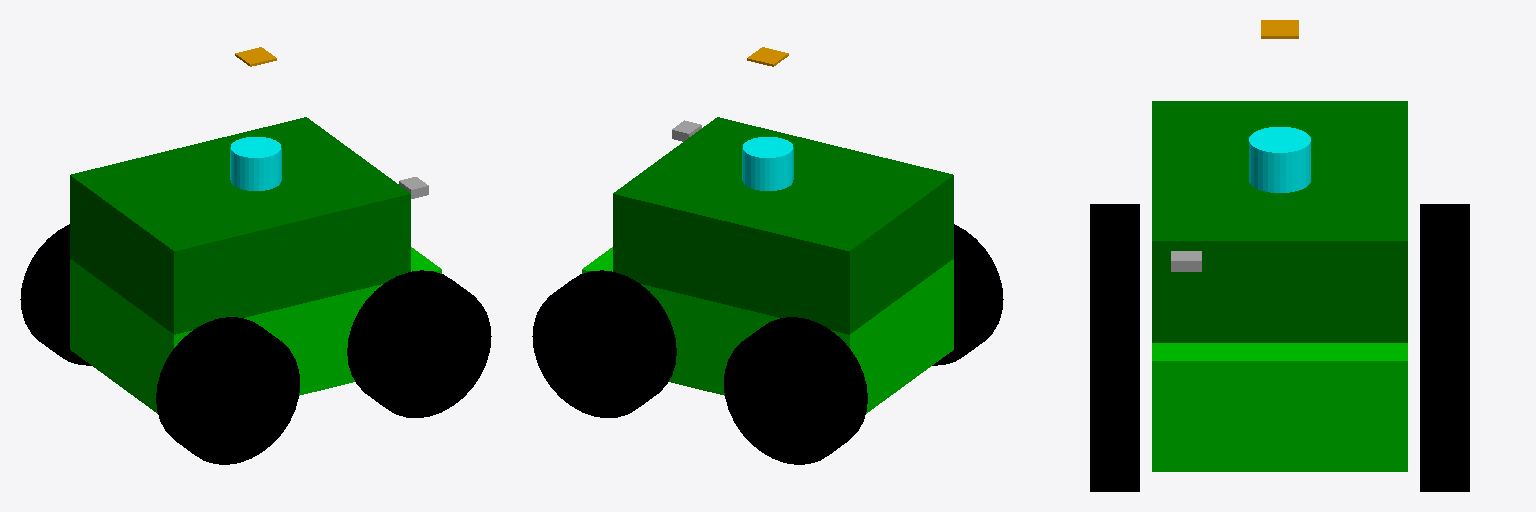
URDF robot description (smb):
<?xml version="1.0" encoding="utf-8"?>
<!-- =================================================================================== -->
<!-- |    This document was autogenerated by xacro from [local-path]/catkin_ws/src/smb_common/smb_description/urdf/smb_standalone.urdf.xacro | -->
<!-- |    EDITING THIS FILE BY HAND IS NOT RECOMMENDED                                 | -->
<!-- =================================================================================== -->
<robot name="smb">
  <!-- Materials -->
  <material name="black">
    <color rgba="0 0 0 1"/>
  </material>
  <material name="dark_grey">
    <color rgba="0 0 0 0.6 1"/>
  </material>
  <material name="blue">
    <color rgba="0 0 0.8 1"/>
  </material>
  <material name="green">
    <color rgba="0 0.8 0 1"/>
  </material>
  <material name="grey">
    <color rgba="0.2 0.2 0.2 1"/>
  </material>
  <material name="orange">
    <color rgba="1 0.4 10 1"/>
  </material>
  <material name="brown">
    <color rgba="0.8 0.8 0.8 1"/>
  </material>
  <material name="red">
    <color rgba="0.8 0 0 1"/>
  </material>
  <material name="white">
    <color rgba="1 1 1 1"/>
  </material>
  <link name="base">
    <collision>
      <origin rpy="0 0 0" xyz="0 0 0"/>
      <geometry>
        <box size="0.605 0.41 0.197"/>
      </geometry>
    </collision>
    <visual>
      <origin rpy="0 0 0" xyz="0 0 0"/>
      <geometry>
        <box size="0.605 0.41 0.197"/>
      </geometry>
      <material name="green"/>
    </visual>
  </link>
  <link name="top">
    <collision>
      <origin rpy="0 0 0" xyz="-0.07 0 0"/>
      <geometry>
        <box size="0.535 0.41 0.18"/>
      </geometry>
    </collision>
    <visual>
      <origin rpy="0 0 0" xyz="0 0 0"/>
      <geometry>
        <box size="0.535 0.41 0.18"/>
      </geometry>
      <material name="green2">
        <color rgba="0 0.5 0 0.8"/>
      </material>
    </visual>
  </link>
  <gazebo reference="top">
    <material>Gazebo/Green</material>
  </gazebo>
  <gazebo reference="base">
    <material>Gazebo/Green</material>
  </gazebo>
  <joint name="top_to_base_link" type="fixed">
    <parent link="base"/>
    <child link="top"/>
    <origin rpy="0 0 0" xyz="-0.035 0.0 0.1885"/>
  </joint>
  <!-- Fixed joint to add dummy inertia link -->
  <joint name="base_to_base_inertia" type="fixed">
    <parent link="base"/>
    <child link="base_inertia"/>
    <origin rpy="0 0 0" xyz="0 0 0"/>
  </joint>
  <!-- Dummy inertia link, because KDL cannot have inertia on the base link -->
  <link name="base_inertia">
    <inertial>
      <origin rpy="0 0 0" xyz="0 0 0"/>
      <mass value="40"/>
      <inertia ixx="0.689696666667" ixy="0" ixz="0" iyy="1.34944666667" iyz="0" izz="1.34944666667"/>
    </inertial>
  </link>
  <joint name="LF_WHEEL" type="fixed">
    <parent link="base"/>
    <child link="LF_WHEEL"/>
    <origin rpy="-1.57079632679 0 0" xyz="0.2159 0.265 -0.0185"/>
    <axis rpy="0 0 0" xyz="0 0 1"/>
    <dynamics damping="1.0" friction="0.0"/>
    <limit effort="1" velocity="1"/>
    <joint_properties damping="0.2" friction="0.2"/>
  </joint>
  <link name="LF_WHEEL">
    <collision>
      <origin rpy="0 0 0" xyz="0 0 0"/>
      <geometry>
        <cylinder length="0.008" radius="0.14"/>
      </geometry>
    </collision>
    <visual>
      <origin rpy="0 0 0" xyz="0 0 0"/>
      <geometry>
        <cylinder length="0.08" radius="0.14"/>
      </geometry>
      <material name="black"/>
    </visual>
    <inertial>
      <origin rpy="0 0 0" xyz="0 0 0"/>
      <mass value="5"/>
      <inertia ixx="0.0271666666667" ixy="0" ixz="0" iyy="0.0271666666667" iyz="0" izz="0.049"/>
    </inertial>
  </link>
  <gazebo reference="LF_WHEEL">
    <mu1 value="0.5"/>
    <mu2 value="0.5"/>
    <fdir1 value="1 0 0"/>
    <kp>10000000.0</kp>
    <kd>1.0</kd>
    <minDepth>0.005</minDepth>
    <maxVel>100.0</maxVel>
    <material>Gazebo/Black</material>
  </gazebo>
  <joint name="RF_WHEEL" type="fixed">
    <parent link="base"/>
    <child link="RF_WHEEL"/>
    <origin rpy="-1.57079632679 0 0" xyz="0.2159 -0.265 -0.0185"/>
    <axis rpy="0 0 0" xyz="0 0 1"/>
    <dynamics damping="1.0" friction="0.0"/>
    <limit effort="1" velocity="1"/>
    <joint_properties damping="0.2" friction="0.2"/>
  </joint>
  <link name="RF_WHEEL">
    <collision>
      <origin rpy="0 0 0" xyz="0 0 0"/>
      <geometry>
        <cylinder length="0.008" radius="0.14"/>
      </geometry>
    </collision>
    <visual>
      <origin rpy="0 0 0" xyz="0 0 0"/>
      <geometry>
        <cylinder length="0.08" radius="0.14"/>
      </geometry>
      <material name="black"/>
    </visual>
    <inertial>
      <origin rpy="0 0 0" xyz="0 0 0"/>
      <mass value="5"/>
      <inertia ixx="0.0271666666667" ixy="0" ixz="0" iyy="0.0271666666667" iyz="0" izz="0.049"/>
    </inertial>
  </link>
  <gazebo reference="RF_WHEEL">
    <mu1 value="0.5"/>
    <mu2 value="0.5"/>
    <fdir1 value="1 0 0"/>
    <kp>10000000.0</kp>
    <kd>1.0</kd>
    <minDepth>0.005</minDepth>
    <maxVel>100.0</maxVel>
    <material>Gazebo/Black</material>
  </gazebo>
  <joint name="LH_WHEEL" type="fixed">
    <parent link="base"/>
    <child link="LH_WHEEL"/>
    <origin rpy="-1.57079632679 0 0" xyz="-0.2159 0.265 -0.0185"/>
    <axis rpy="0 0 0" xyz="0 0 1"/>
    <dynamics damping="1.0" friction="0.0"/>
    <limit effort="1" velocity="1"/>
    <joint_properties damping="0.2" friction="0.2"/>
  </joint>
  <link name="LH_WHEEL">
    <collision>
      <origin rpy="0 0 0" xyz="0 0 0"/>
      <geometry>
        <cylinder length="0.008" radius="0.14"/>
      </geometry>
    </collision>
    <visual>
      <origin rpy="0 0 0" xyz="0 0 0"/>
      <geometry>
        <cylinder length="0.08" radius="0.14"/>
      </geometry>
      <material name="black"/>
    </visual>
    <inertial>
      <origin rpy="0 0 0" xyz="0 0 0"/>
      <mass value="5"/>
      <inertia ixx="0.0271666666667" ixy="0" ixz="0" iyy="0.0271666666667" iyz="0" izz="0.049"/>
    </inertial>
  </link>
  <gazebo reference="LH_WHEEL">
    <mu1 value="0.0"/>
    <mu2 value="0.0"/>
    <fdir1 value="1 0 0"/>
    <kp>10000000.0</kp>
    <kd>1.0</kd>
    <minDepth>0.005</minDepth>
    <maxVel>100.0</maxVel>
    <material>Gazebo/Black</material>
  </gazebo>
  <joint name="RH_WHEEL" type="fixed">
    <parent link="base"/>
    <child link="RH_WHEEL"/>
    <origin rpy="-1.57079632679 0 0" xyz="-0.2159 -0.265 -0.0185"/>
    <axis rpy="0 0 0" xyz="0 0 1"/>
    <dynamics damping="1.0" friction="0.0"/>
    <limit effort="1" velocity="1"/>
    <joint_properties damping="0.2" friction="0.2"/>
  </joint>
  <link name="RH_WHEEL">
    <collision>
      <origin rpy="0 0 0" xyz="0 0 0"/>
      <geometry>
        <cylinder length="0.008" radius="0.14"/>
      </geometry>
    </collision>
    <visual>
      <origin rpy="0 0 0" xyz="0 0 0"/>
      <geometry>
        <cylinder length="0.08" radius="0.14"/>
      </geometry>
      <material name="black"/>
    </visual>
    <inertial>
      <origin rpy="0 0 0" xyz="0 0 0"/>
      <mass value="5"/>
      <inertia ixx="0.0271666666667" ixy="0" ixz="0" iyy="0.0271666666667" iyz="0" izz="0.049"/>
    </inertial>
  </link>
  <gazebo reference="RH_WHEEL">
    <mu1 value="0.2"/>
    <mu2 value="0.2"/>
    <fdir1 value="1 0 0"/>
    <kp>10000000.0</kp>
    <kd>1.0</kd>
    <minDepth>0.005</minDepth>
    <maxVel>100.0</maxVel>
    <material>Gazebo/Black</material>
  </gazebo>
  <!-- Imu is fixed to the base link -->
  <joint name="imu_joint" type="fixed">
    <origin rpy="0 0 0" xyz="0.27 -0.15 0.26"/>
    <parent link="base"/>
    <child link="imu_link"/>
  </joint>
  <!-- Imu link -->
  <link name="imu_link">
    <inertial>
      <mass value="0.001"/>
      <origin rpy="0 0 0" xyz="0 0 0"/>
      <inertia ixx="0.0001" ixy="0" ixz="0" iyy="0.000001" iyz="0" izz="0.0001"/>
    </inertial>
    <visual>
      <origin rpy="0 0 0" xyz="0 0 0"/>
      <geometry>
        <box size="0.04 0.05 0.02"/>
      </geometry>
    </visual>
    <collision>
      <origin rpy="0 0 0" xyz="0 0 0"/>
      <geometry>
        <box size=".001 .001 .001"/>
      </geometry>
    </collision>
    <material name="orange">
      <color rgba="1 108 10 1"/>
    </material>
  </link>
  <gazebo reference="imu_link">
    <material>Gazebo/Orange</material>
  </gazebo>
  <gazebo reference="imu_joint">
    <disableFixedJointLumping>true</disableFixedJointLumping>
  </gazebo>
  <!-- Gps is fixed to the base link -->
  <joint name="gps_joint" type="fixed">
    <origin rpy="0 0 0" xyz="0 0 0.545"/>
    <parent link="base"/>
    <child link="gps_link"/>
  </joint>
  <!-- Gps link -->
  <link name="gps_link">
    <inertial>
      <mass value="0.001"/>
      <origin rpy="0 0 0" xyz="0 0 0"/>
      <inertia ixx="0.0001" ixy="0" ixz="0" iyy="0.000001" iyz="0" izz="0.0001"/>
    </inertial>
    <visual>
      <origin rpy="0 0 0" xyz="0 0 0"/>
      <geometry>
        <box size="0.06 0.06 0.005"/>
      </geometry>
    </visual>
    <collision>
      <origin rpy="0 0 0" xyz="0 0 0"/>
      <geometry>
        <box size=".001 .001 .001"/>
      </geometry>
    </collision>
    <material name="grey_dark2">
      <color rgba="0.8 0.8 0.8 1.0"/>
    </material>
  </link>
  <gazebo reference="gps_link">
    <material>Gazebo/DarkGrey</material>
  </gazebo>
  <gazebo reference="gps_joint">
    <disableFixedJointLumping>true</disableFixedJointLumping>
  </gazebo>
  <link name="rslidar">
    <inertial>
      <mass value="0.01"/>
      <origin xyz="0 0 0"/>
      <inertia ixx="1e-7" ixy="0" ixz="0" iyy="1e-7" iyz="0" izz="1e-7"/>
    </inertial>
    <visual>
      <origin rpy="0 0 0" xyz="0 0 0"/>
      <geometry>
        <cylinder length="0.08" radius="0.05"/>
      </geometry>
      <material name="Cyan">
        <color rgba="0 1.0 1.0 1.0"/>
      </material>
    </visual>
  </link>
  <joint name="base_to_rslidar" type="fixed">
    <parent link="base"/>
    <child link="rslidar"/>
    <origin rpy="0 0 4.71238" xyz="0 0 0.31"/>
  </joint>
</robot>

--- What the picture shows (computed from the rendered views, not written in the file) ---
3 views of the same robot in one strip: view 1: azimuth 30°, elevation 25°; view 2: azimuth 150°, elevation 25°; view 3: azimuth 270°, elevation 25° (orthographic).
Model smb with 10 links and 9 joints (9 fixed), rooted at base, posed every joint at zero.
Visible links, largest first — view 1: top, RH_WHEEL, RF_WHEEL, base, LH_WHEEL, rslidar; view 2: top, LH_WHEEL, LF_WHEEL, base, RH_WHEEL, rslidar; view 3: top, base, LF_WHEEL, RF_WHEEL, LH_WHEEL, RH_WHEEL, rslidar, gps_link, imu_link.
Link boxes in pixels (x1=…): top: x1=70, y1=117, x2=410, y2=334; RH_WHEEL: x1=156, y1=317, x2=299, y2=464; RF_WHEEL: x1=347, y1=270, x2=491, y2=417; base: x1=70, y1=247, x2=441, y2=413; LH_WHEEL: x1=20, y1=224, x2=91, y2=365; rslidar: x1=230, y1=137, x2=281, y2=190; top: x1=613, y1=117, x2=953, y2=334; LH_WHEEL: x1=724, y1=317, x2=867, y2=464; LF_WHEEL: x1=532, y1=270, x2=676, y2=417; base: x1=582, y1=247, x2=953, y2=413; RH_WHEEL: x1=932, y1=224, x2=1003, y2=365; rslidar: x1=742, y1=137, x2=793, y2=190; top: x1=1152, y1=101, x2=1407, y2=342; base: x1=1152, y1=343, x2=1407, y2=471; LF_WHEEL: x1=1420, y1=317, x2=1469, y2=491; RF_WHEEL: x1=1090, y1=317, x2=1139, y2=491; LH_WHEEL: x1=1420, y1=204, x2=1469, y2=316; RH_WHEEL: x1=1090, y1=204, x2=1139, y2=316; rslidar: x1=1249, y1=127, x2=1310, y2=192; gps_link: x1=1261, y1=20, x2=1298, y2=38; imu_link: x1=1171, y1=251, x2=1201, y2=271.
Bounding box of the posed robot: 0.7118 × 0.61 × 0.706 m (x, y, z).
Geometry: primitives only (box / cylinder / sphere), no mesh files.